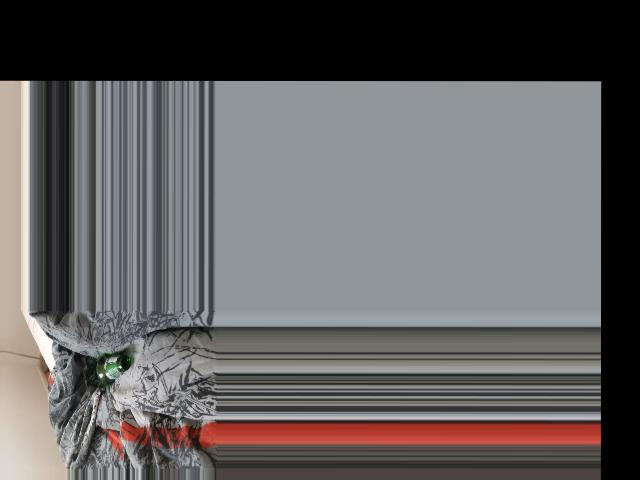beer: (85, 353, 131, 386)
